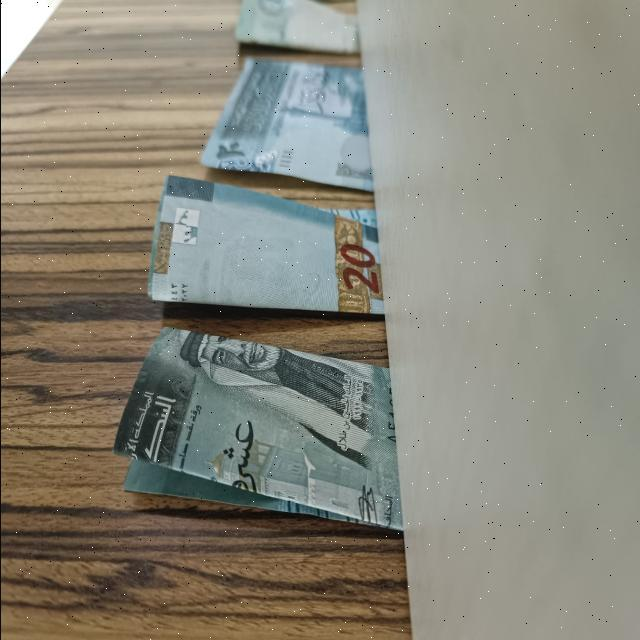1-dinar: (231, 0, 357, 50)
20-dinar: (112, 328, 403, 542), (145, 189, 381, 311), (198, 59, 370, 189)
